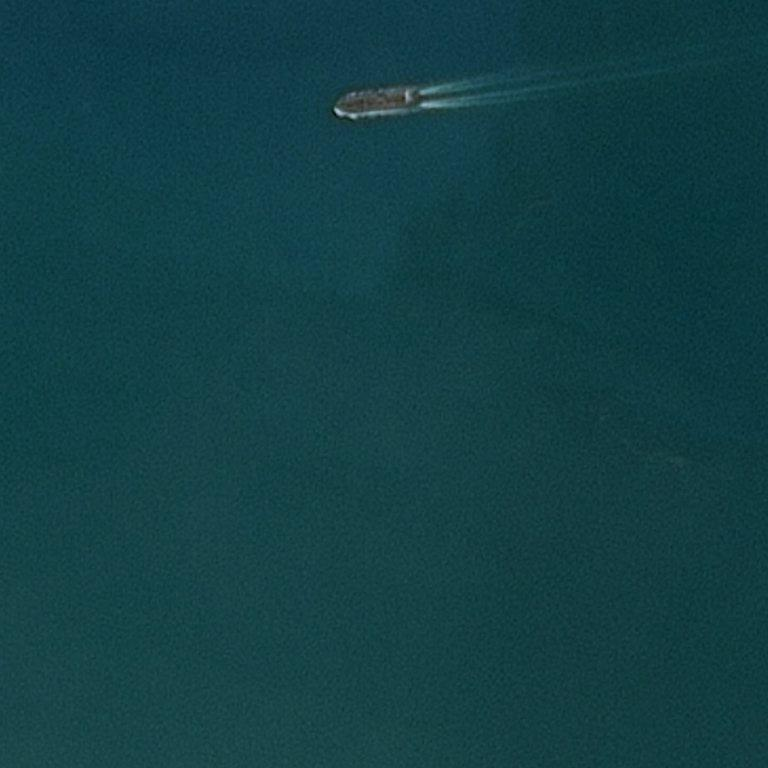ship: (367, 3, 386, 48), (415, 103, 419, 106), (415, 89, 418, 92), (336, 104, 338, 107)
